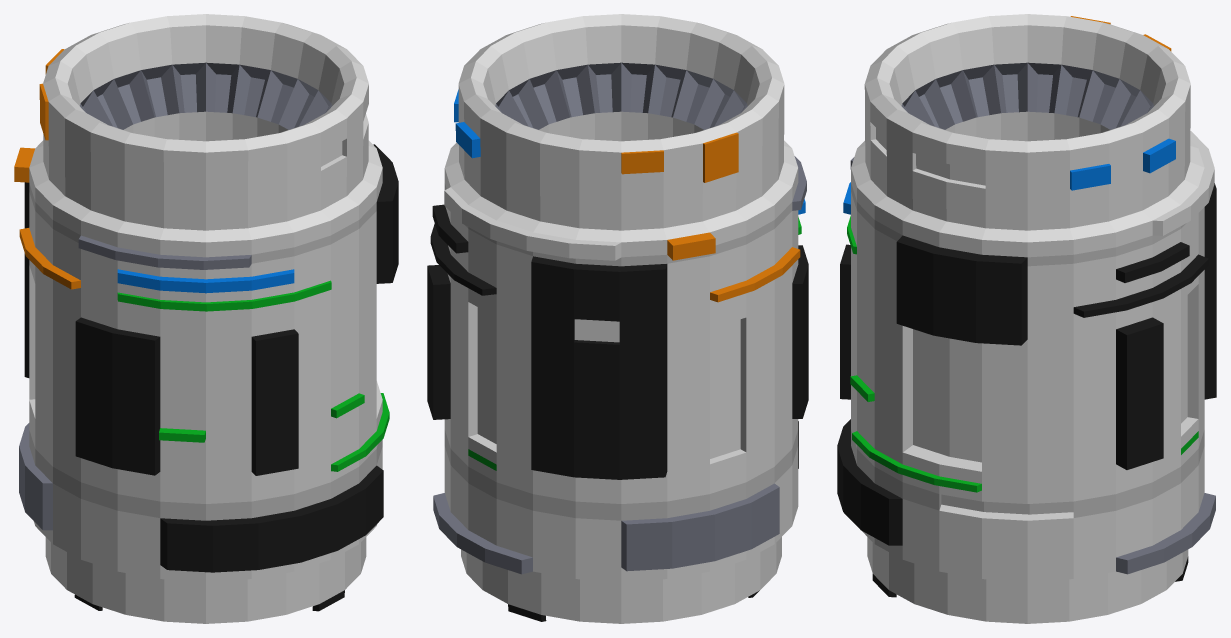
Rendered from SpaceBase.glb.
3 views of the same model, side by side, from view 1: azimuth 30°, elevation 25°; view 2: azimuth 150°, elevation 25°; view 3: azimuth 270°, elevation 25° (orthographic).
Visible parts, largest first — view 1: SpaceBase-main; view 2: SpaceBase-main; view 3: SpaceBase-main.
Part boxes in pixels (x1,y1,x2,y2): SpaceBase-main: (14, 14, 398, 623); SpaceBase-main: (427, 14, 808, 623); SpaceBase-main: (837, 14, 1216, 623).
Size of the model in its own units: 2.32 by 3.34 by 2.33.
